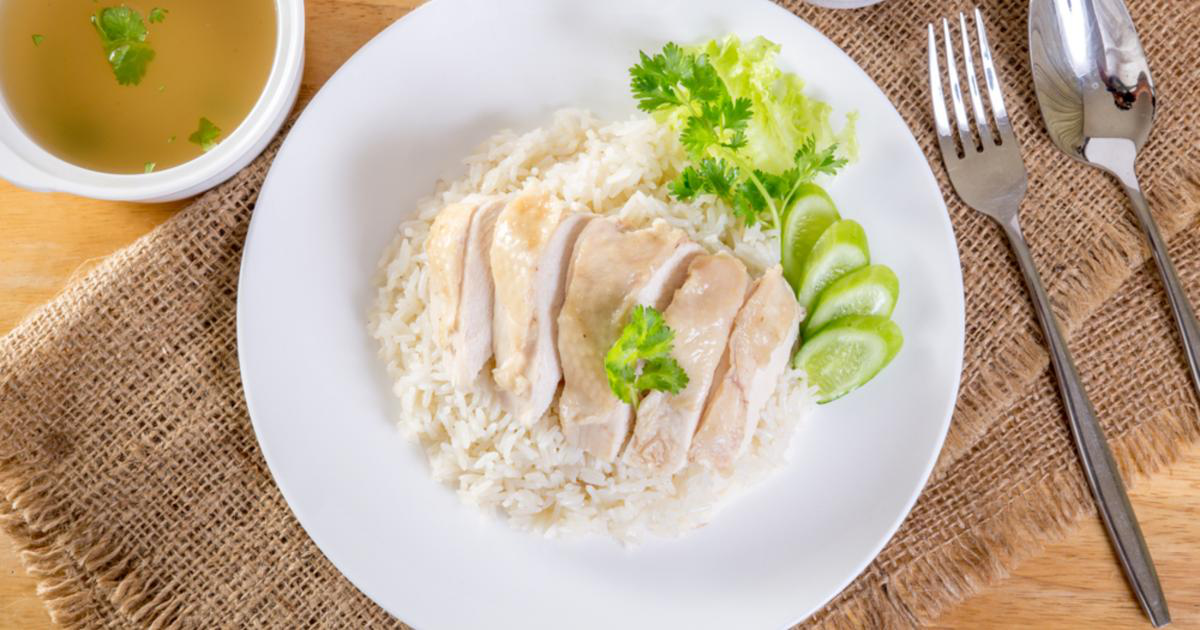Steamed Chicken Rice: (410, 118, 812, 551)
